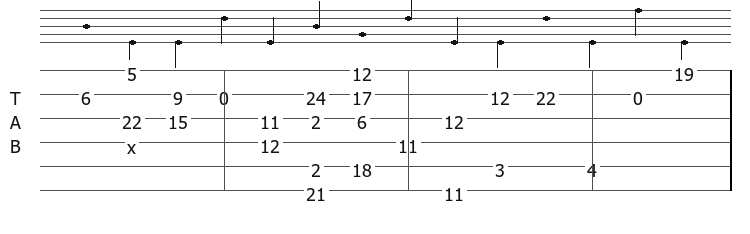0: (219, 86, 233, 103), (633, 86, 647, 103)
11: (260, 110, 284, 127), (398, 134, 422, 151), (444, 182, 468, 199)
12: (260, 134, 284, 151), (352, 62, 376, 79), (444, 110, 468, 127), (490, 86, 514, 103)
15: (168, 110, 192, 127)
17: (352, 86, 376, 103)
18: (352, 158, 376, 175)
19: (674, 62, 698, 79)
2: (311, 110, 325, 127), (311, 158, 325, 175)
21: (306, 182, 330, 199)
22: (122, 110, 146, 127), (536, 86, 560, 103)
24: (306, 86, 330, 103)
3: (495, 158, 509, 175)
4: (587, 158, 601, 175)
5: (127, 62, 141, 79)
6: (81, 86, 95, 103), (357, 110, 371, 127)
9: (173, 86, 187, 103)
x: (127, 135, 140, 149)
